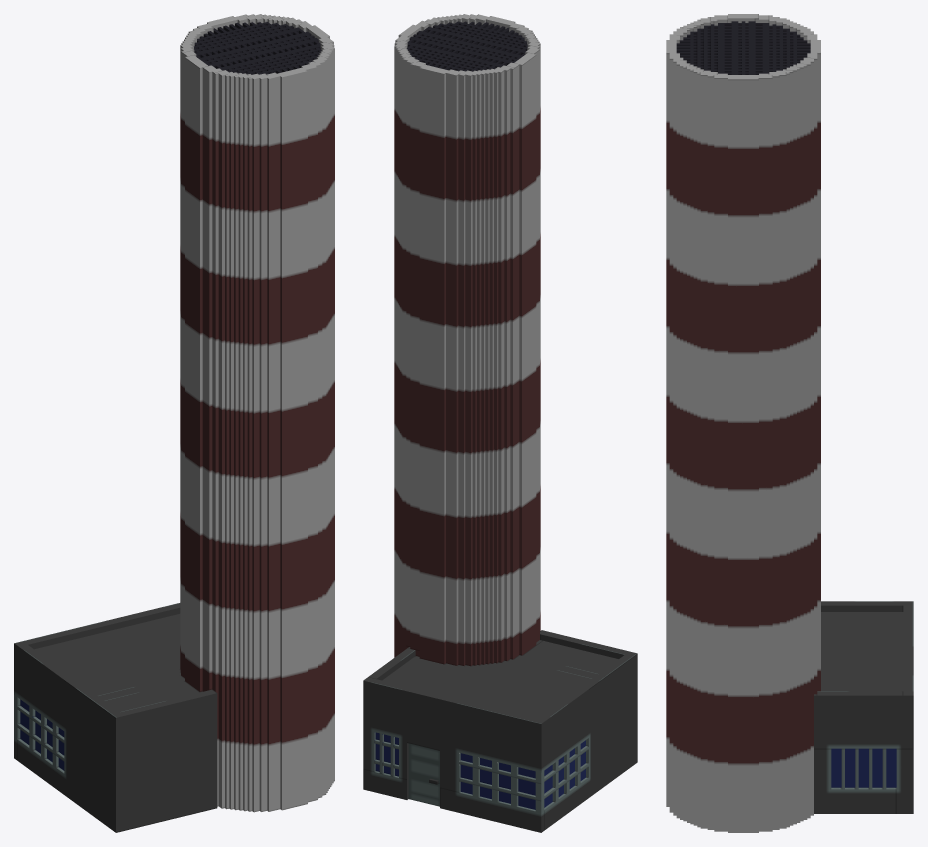
Rendered from komin_z_budynek.dae.
3 views of the same model, side by side, from view 1: azimuth 30°, elevation 25°; view 2: azimuth 150°, elevation 25°; view 3: azimuth 270°, elevation 25° (orthographic). The views are drawn at different scales.
Parts seen in each view (by area): view 1: Content; view 2: Content; view 3: Content.
Boxes of the visible parts, x1,y1,x2,y2 form: Content: (14,14,334,832); Content: (363,14,637,832); Content: (666,14,913,832).
Size of the model in its own units: 78 by 242 by 72.
1 material, 1 textured.
